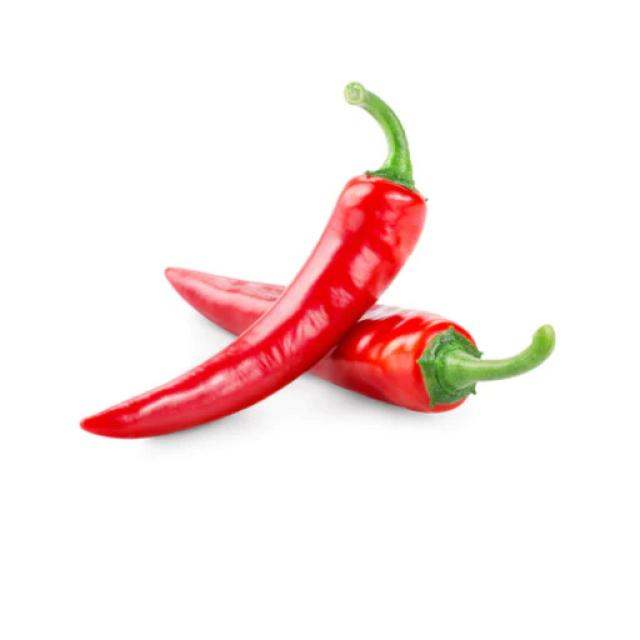red chili: (81, 82, 428, 438), (310, 305, 556, 412), (166, 269, 285, 334)
